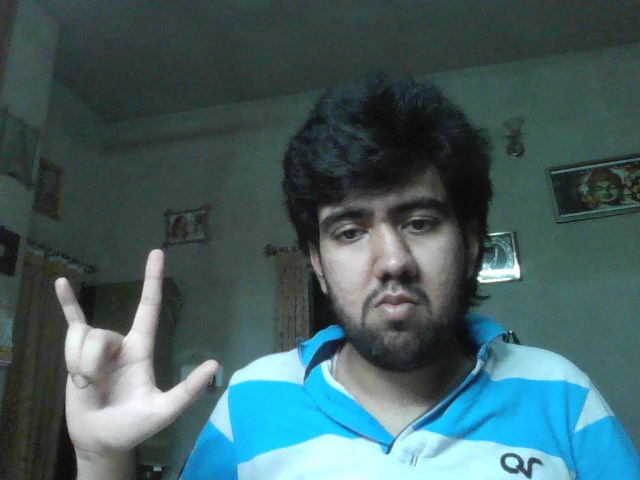ILoveYou: (54, 248, 219, 448)
